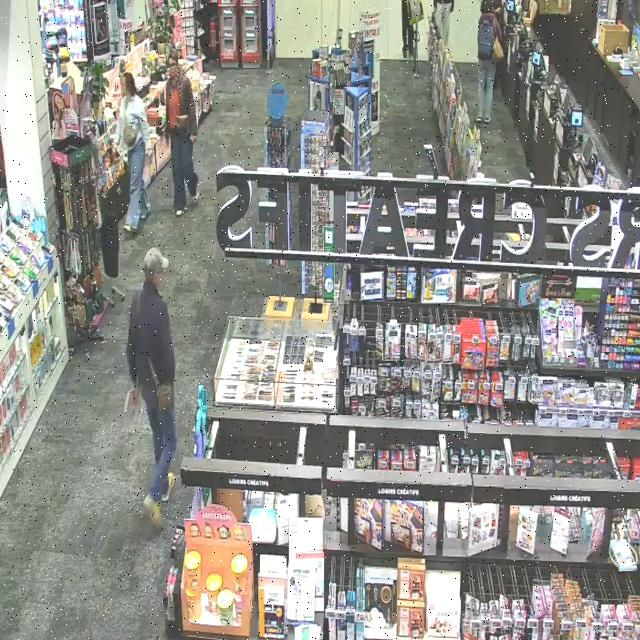article: (123, 392, 144, 428)
bags: (148, 358, 172, 411), (478, 17, 495, 59), (124, 99, 137, 147), (493, 37, 504, 61), (176, 113, 188, 129)
hands: (130, 384, 139, 407), (190, 135, 196, 143), (146, 145, 151, 154)
person: (128, 248, 177, 524), (115, 73, 150, 233), (166, 53, 199, 216), (477, 0, 501, 122), (434, 0, 454, 45)
